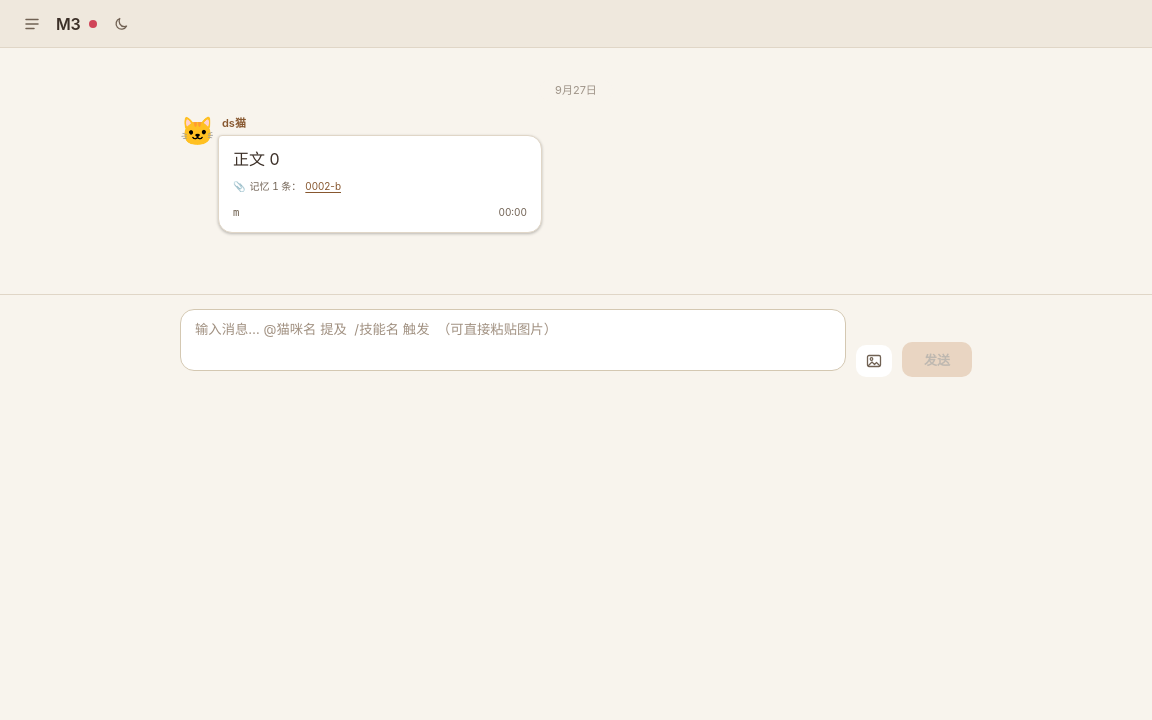
Scenario: M3 记忆抽屉 MD 化（两处内容区按 markdown 渲染） › 承重：两处内容区渲成 markdown 元素（标题 / 列表 / 粗体 / 行内码），不再是纯文本字面量
Click the button with class "mem-link" at (323, 186), box [305, 178, 341, 194]
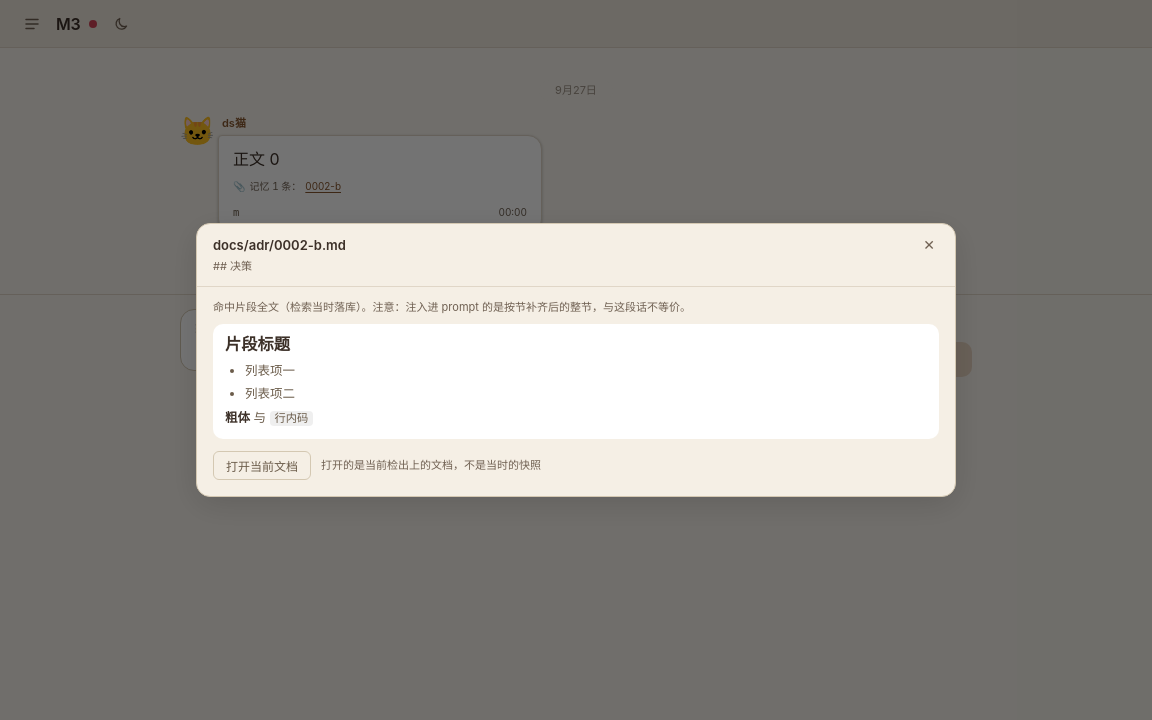
Expected: the element with class "memory-drawer-snippet" is shown, [213, 324, 939, 439]
Expected: the heading "片段标题" is shown, [225, 334, 290, 354]
Expected: the number of list items is 2, [245, 363, 295, 378]; [245, 386, 295, 401]
Click the button with class "memory-drawer-open" at (262, 466), box [213, 451, 311, 480]
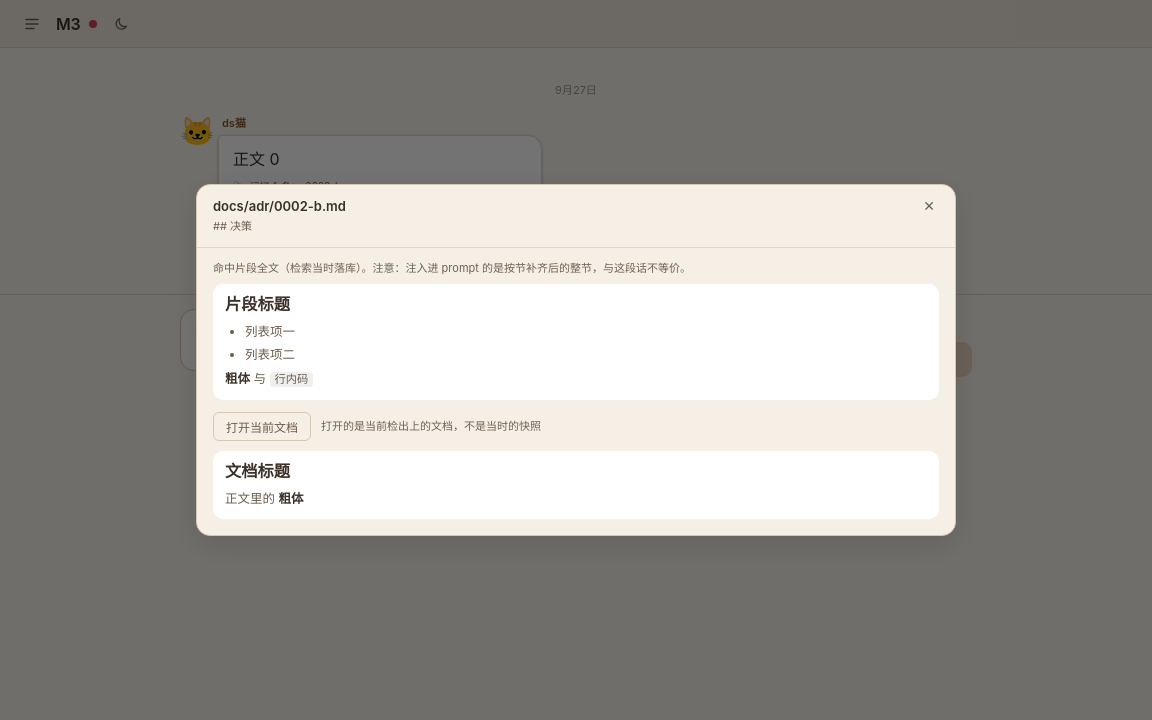
Expected: the element with class "memory-drawer-doc" does not show "#"
Expected: the text "粗体" next to "正文里的" is shown, [278, 490, 304, 506]
Expected: the element with class "memory-drawer-doc" is shown, [213, 451, 939, 519]
